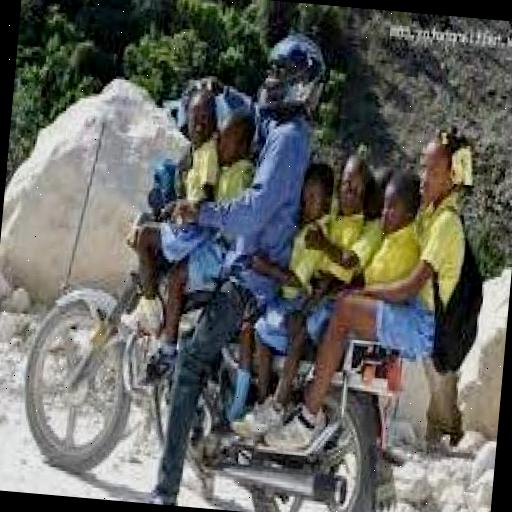helmet: (246, 40, 346, 156)
triple riding: (4, 5, 509, 512)
